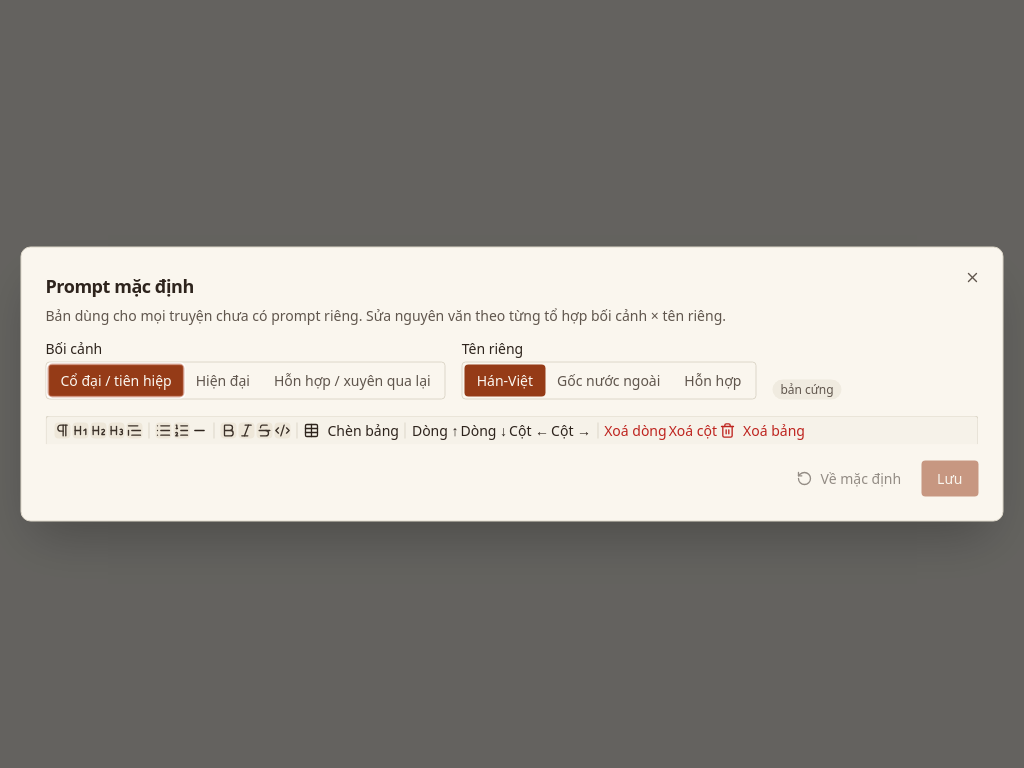
BasePromptDialog › đổi genre nạp lại; Về mặc định gọi base_reset
The width and height of the screenshot is (1024, 768).
Expected: the text "bản cứng" is shown, [772,380,842,400]
Click the radio button labelled "Hiện đại".
click(223, 380)  # box [184,364,262,396]
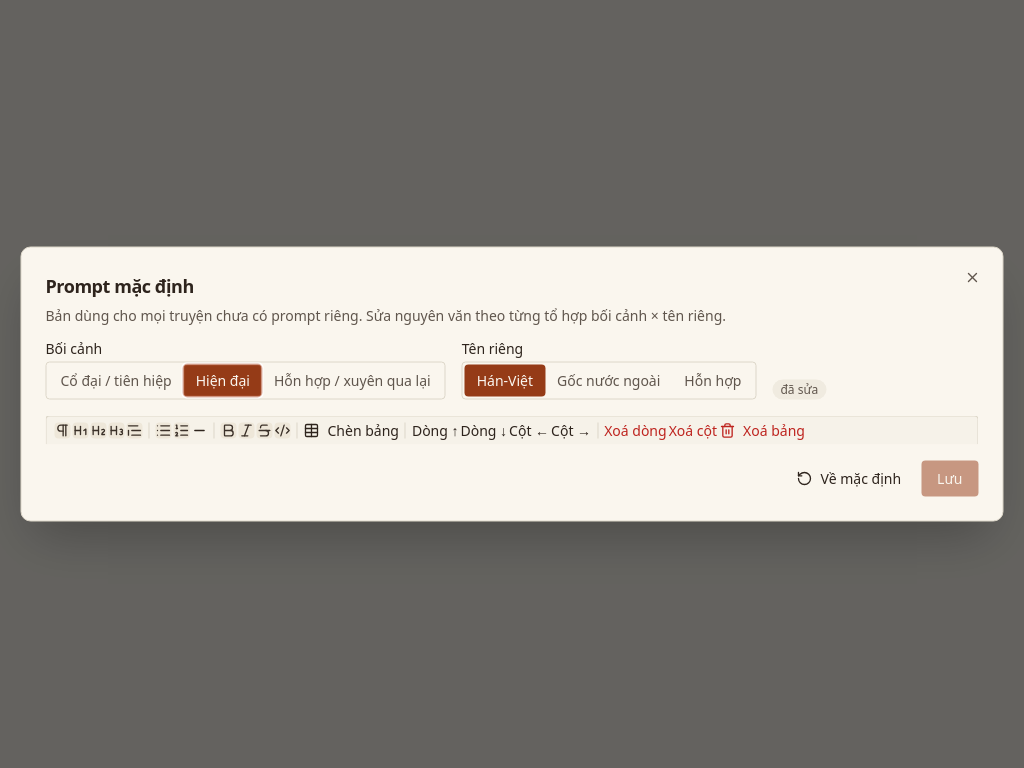
Now the text "đã sửa" is shown, box [772,380,826,400]
Click the button "Về mặc định".
click(849, 478)  # box [785,460,913,496]
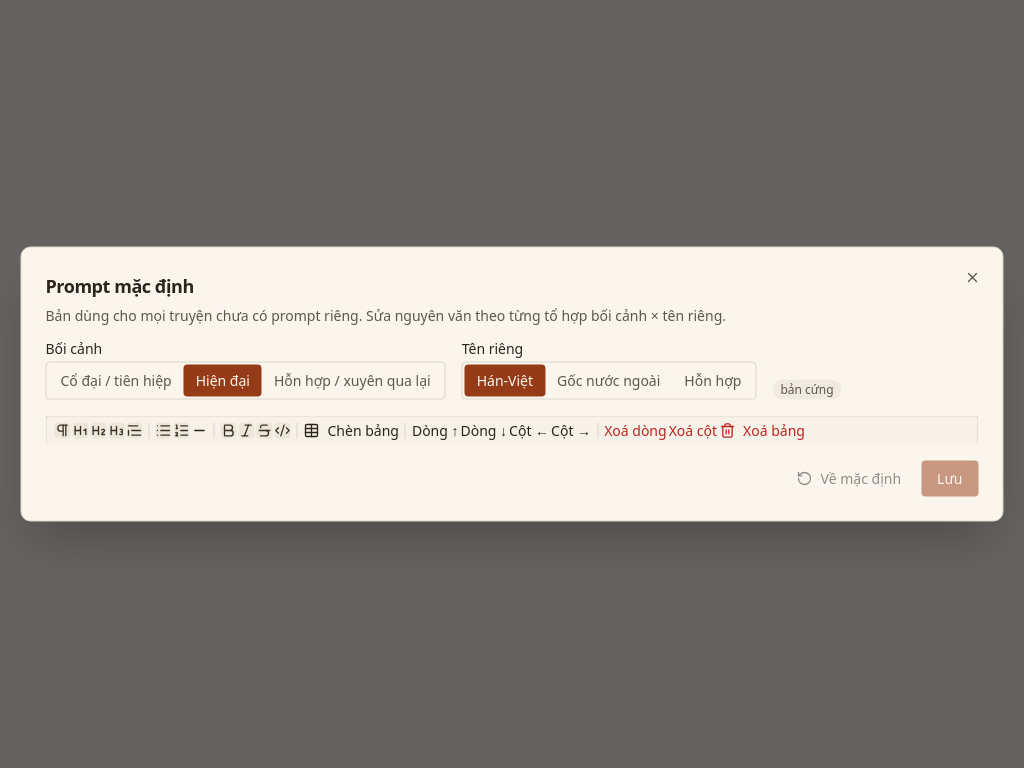
Now the text "bản cứng" is shown, box [772,380,842,400]
